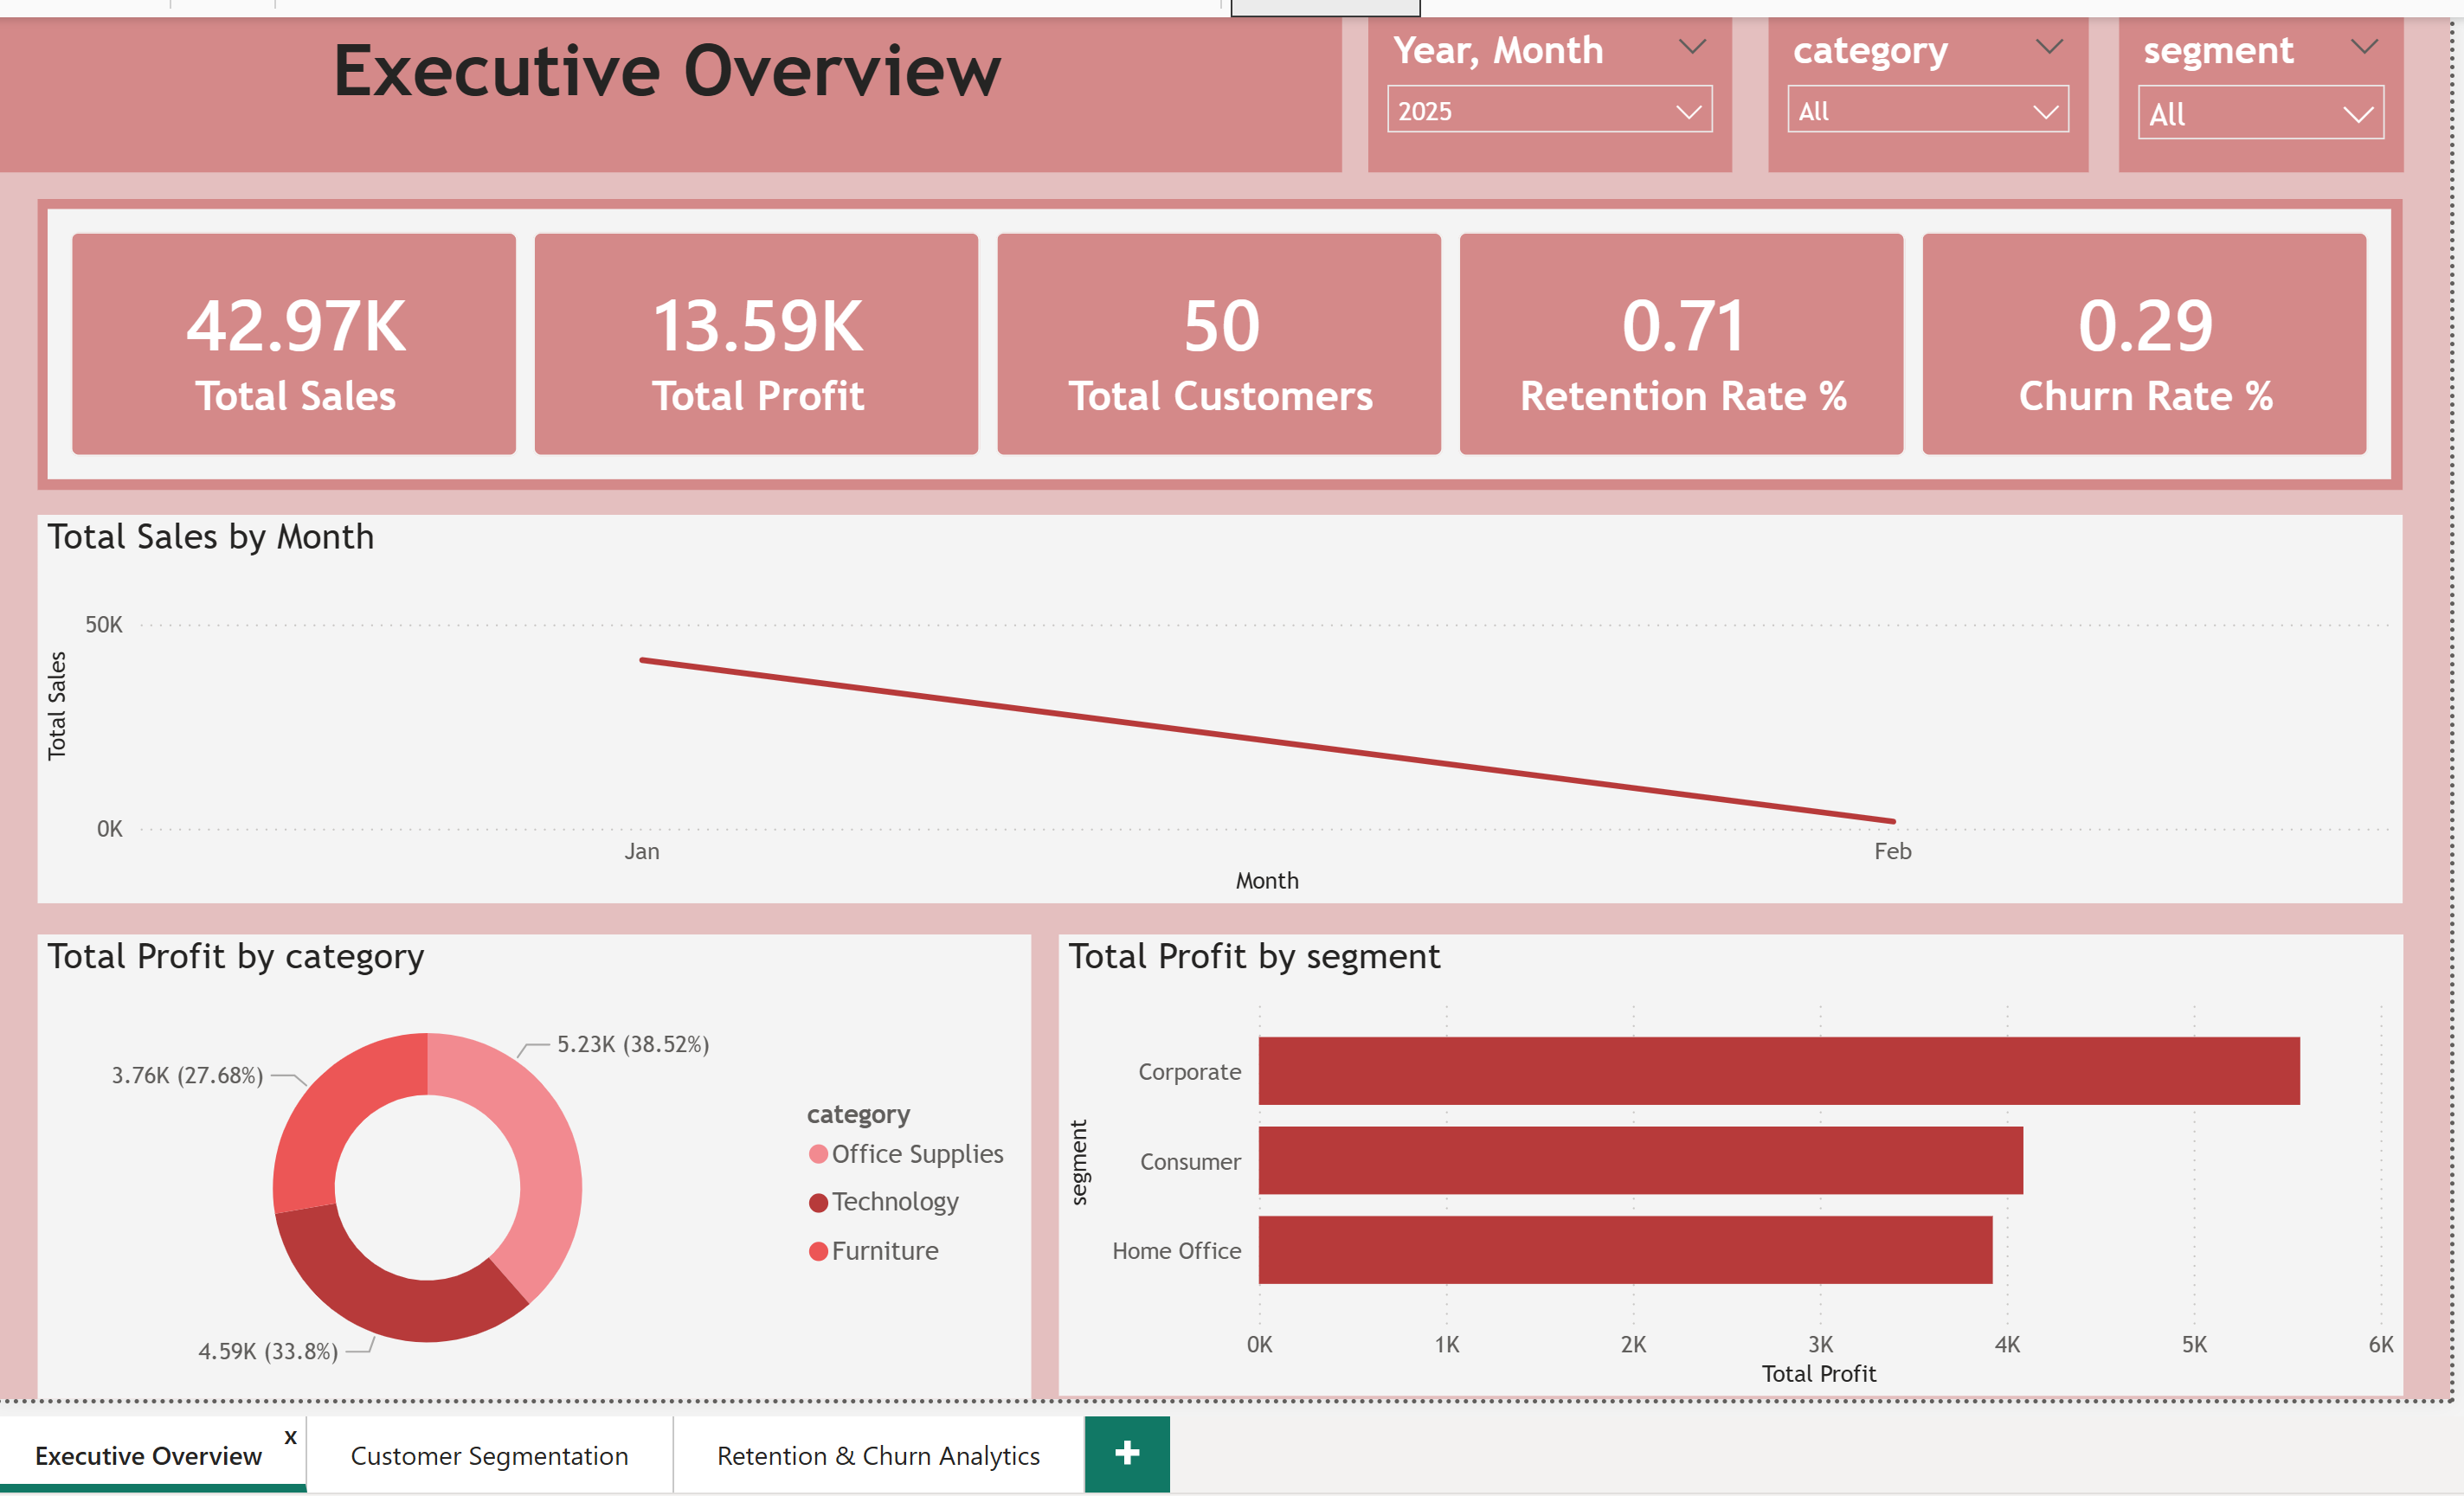

Layout of this report page (visuals, bound fields, positions):
{"tool":"powerbi","page":{"name":"Executive Overview","canvas":[1280,720],"ordinal":0},"visuals":[{"type":"textbox","box":[0,0,703.1,80.6],"z":0},{"type":"lineChart","fields":{"Category":["Calendar.Month"],"Y":["public orders.Total Sales"]},"box":[24,258.9,1232.2,202.3],"z":1000},{"type":"cardVisual","fields":{"Data":["public orders.Total Sales","public orders.Total Profit","public customers.Total Customers","public orders.Retention Rate %","public orders.Churn Rate %"]},"box":[24.1,95,1232.1,151.7],"z":2000},{"type":"donutChart","fields":{"Category":["public products.category"],"Y":["public orders.Total Profit"]},"box":[24,478.2,517.8,241.9],"z":3000},{"type":"clusteredBarChart","fields":{"Category":["public customers.segment"],"Y":["public orders.Total Profit"]},"box":[556,478.2,700.3,240.5],"z":4000},{"type":"slicer","fields":{"Values":["Calendar.Year","Calendar.Month"]},"box":[717.2,0,189.6,80.6],"z":5000},{"type":"slicer","fields":{"Values":["public customers.segment"]},"box":[1107.7,0,148.5,80.6],"z":6000},{"type":"slicer","fields":{"Values":["public products.category"]},"box":[925.2,0,166.9,80.6],"z":7000}]}

Visuals, with their boxes on the page's 1280x720 design canvas (x1, y1, x2, y2). These are canvas units, not pixel positions in the 2464x1496 screenshot, which may show the page scaled, cropped or inside an application window:
textbox: (left=0, top=0, right=703, bottom=81)
lineChart - Calendar.Month x public orders.Total Sales: (left=24, top=259, right=1256, bottom=461)
cardVisual - public orders.Total Sales x public orders.Total Profit: (left=24, top=95, right=1256, bottom=247)
donutChart - public products.category x public orders.Total Profit: (left=24, top=478, right=542, bottom=720)
clusteredBarChart - public customers.segment x public orders.Total Profit: (left=556, top=478, right=1256, bottom=719)
slicer - Calendar.Year x Calendar.Month: (left=717, top=0, right=907, bottom=81)
slicer - public customers.segment: (left=1108, top=0, right=1256, bottom=81)
slicer - public products.category: (left=925, top=0, right=1092, bottom=81)
